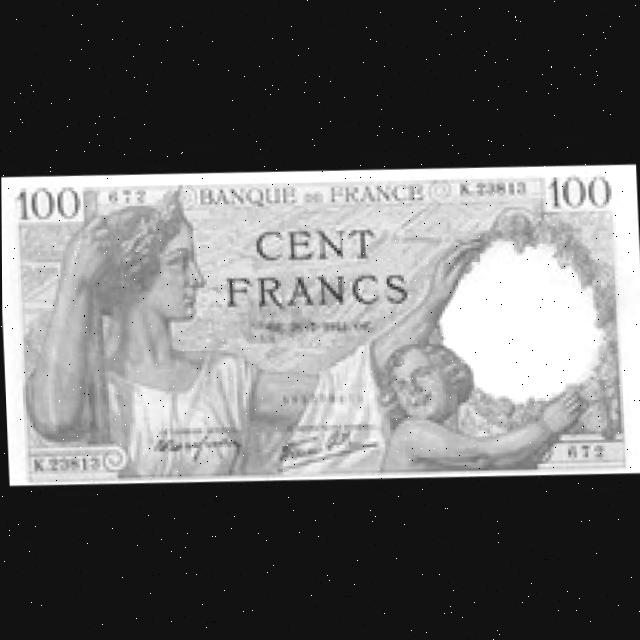banknote: (1, 156, 640, 494), (237, 210, 390, 269), (543, 165, 616, 212), (8, 180, 83, 225)
